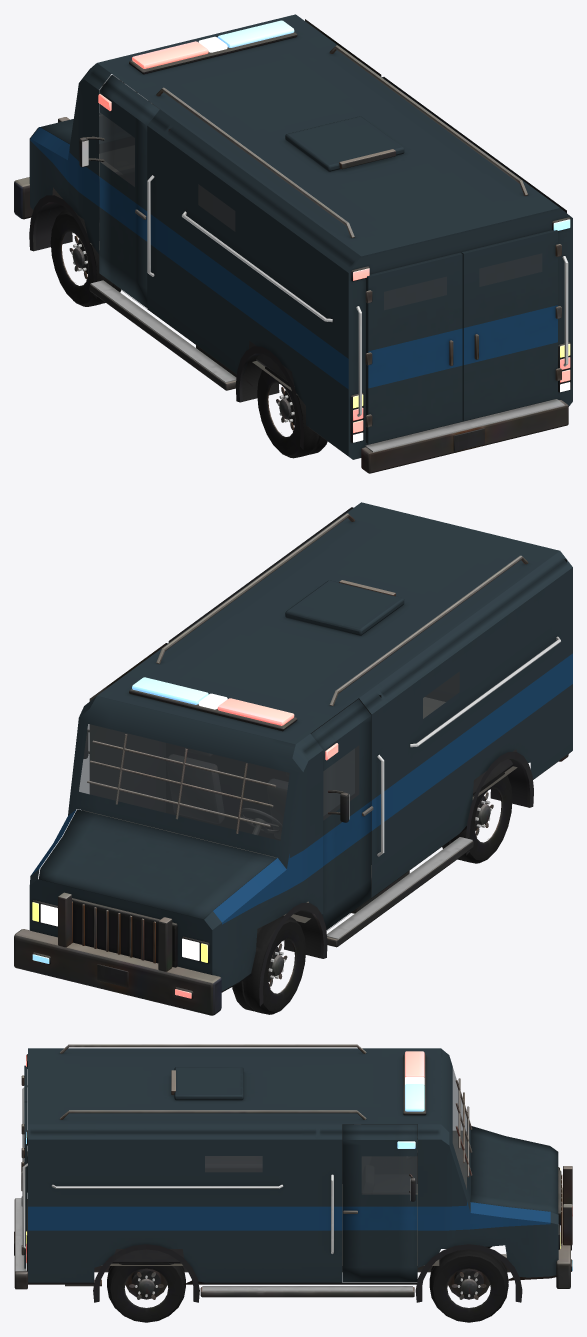
The model's file is swat_van.glb.
3 renders of one model, top to bottom at view 1: azimuth 30°, elevation 25°; view 2: azimuth 150°, elevation 25°; view 3: azimuth 270°, elevation 25°, orthographic. The views are drawn at different scales.
Parts seen in each view (by area): view 1: lod0, door_rear_l, door_rear_r, door_fl, bumper_r, wheel_rl_mesh, wheel_fl_mesh, window_l, bumper_f; view 2: lod0, hood, window_front, door_fl, bumper_f, wheel_fl_mesh, wheel_rl_mesh, window_l; view 3: lod0, door_fr, hood, wheel_fr, wheel_rr, bumper_f, window_r, bumper_r, window_front, door_rear_r.
Boxes of the visible parts, left/top/right/bottom form: lod0: left=29, top=14, right=572, bottom=459; door_rear_l: left=365, top=252, right=462, bottom=444; door_rear_r: left=461, top=230, right=561, bottom=420; door_fl: left=79, top=75, right=159, bottom=307; bumper_r: left=361, top=399, right=568, bottom=473; wheel_rl_mesh: left=257, top=367, right=327, bottom=458; wheel_fl_mesh: left=50, top=209, right=121, bottom=306; window_l: left=198, top=184, right=235, bottom=231; bumper_f: left=14, top=117, right=69, bottom=219; lod0: left=29, top=502, right=572, bottom=1006; hood: left=38, top=809, right=276, bottom=919; window_front: left=79, top=724, right=289, bottom=840; door_fl: left=311, top=699, right=373, bottom=930; bumper_f: left=14, top=892, right=221, bottom=1015; wheel_fl_mesh: left=232, top=915, right=305, bottom=1014; wheel_rl_mesh: left=442, top=772, right=512, bottom=863; window_l: left=423, top=671, right=459, bottom=718; lod0: left=22, top=1044, right=562, bottom=1302; door_fr: left=342, top=1124, right=417, bottom=1282; hood: left=470, top=1126, right=558, bottom=1214; wheel_fr: left=429, top=1249, right=508, bottom=1322; wheel_rr: left=107, top=1262, right=185, bottom=1322; bumper_f: left=556, top=1166, right=572, bottom=1288; window_r: left=205, top=1156, right=262, bottom=1172; bumper_r: left=14, top=1198, right=27, bottom=1289; window_front: left=452, top=1067, right=466, bottom=1188; door_rear_r: left=21, top=1102, right=27, bottom=1268.
Size of what is drawn, in the model's own units: 2.94 by 2.78 by 6.79.
Materials: 12 (11 with a texture image).
